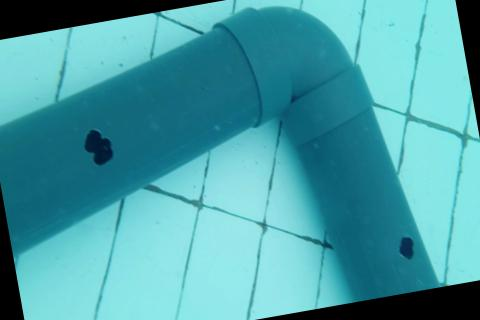kebocoran: (81, 123, 117, 168), (395, 234, 417, 261)
